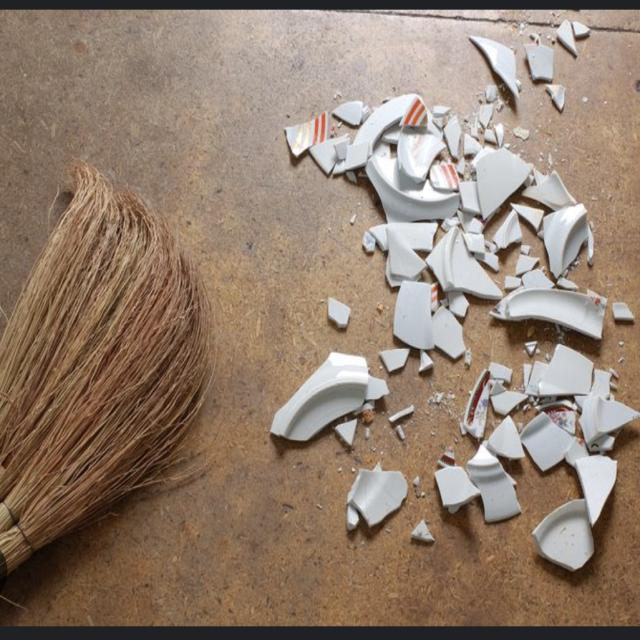PecahanKaca: (269, 84, 639, 574), (281, 92, 618, 310), (436, 324, 635, 570), (274, 322, 432, 549)
